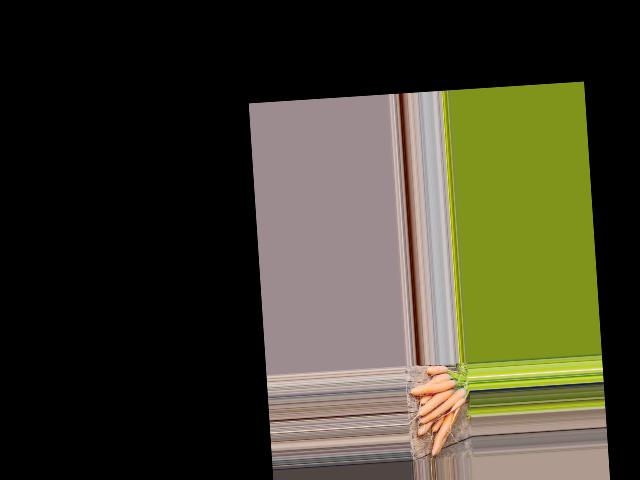carrot: (426, 411, 456, 454)
